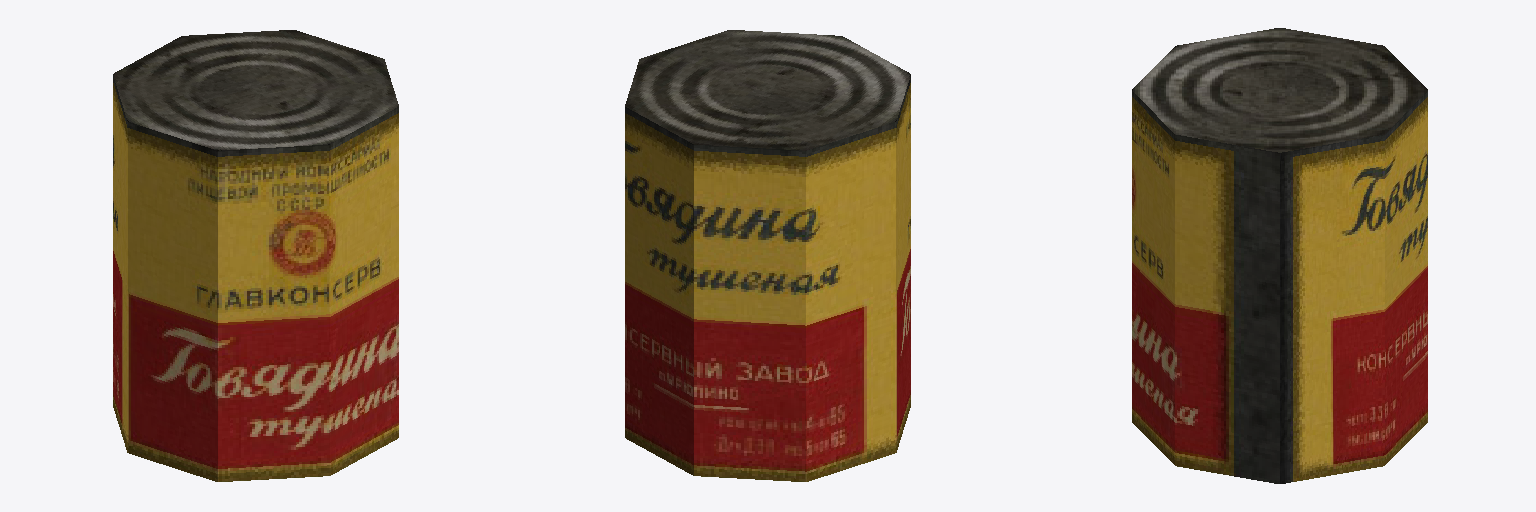
3 renders of one model, left to right at view 1: azimuth 30°, elevation 25°; view 2: azimuth 150°, elevation 25°; view 3: azimuth 270°, elevation 25°, orthographic.
Visible parts, largest first — view 1: Can2; view 2: Can2; view 3: Can2.
Part boxes in pixels (left/top/right/bottom): Can2: left=113, top=30, right=398, bottom=481; Can2: left=625, top=30, right=910, bottom=481; Can2: left=1132, top=28, right=1427, bottom=483.
Bounding box in the file's own units: 0.3 × 0.3701 × 0.3.
Materials: 1 (1 with a texture image).